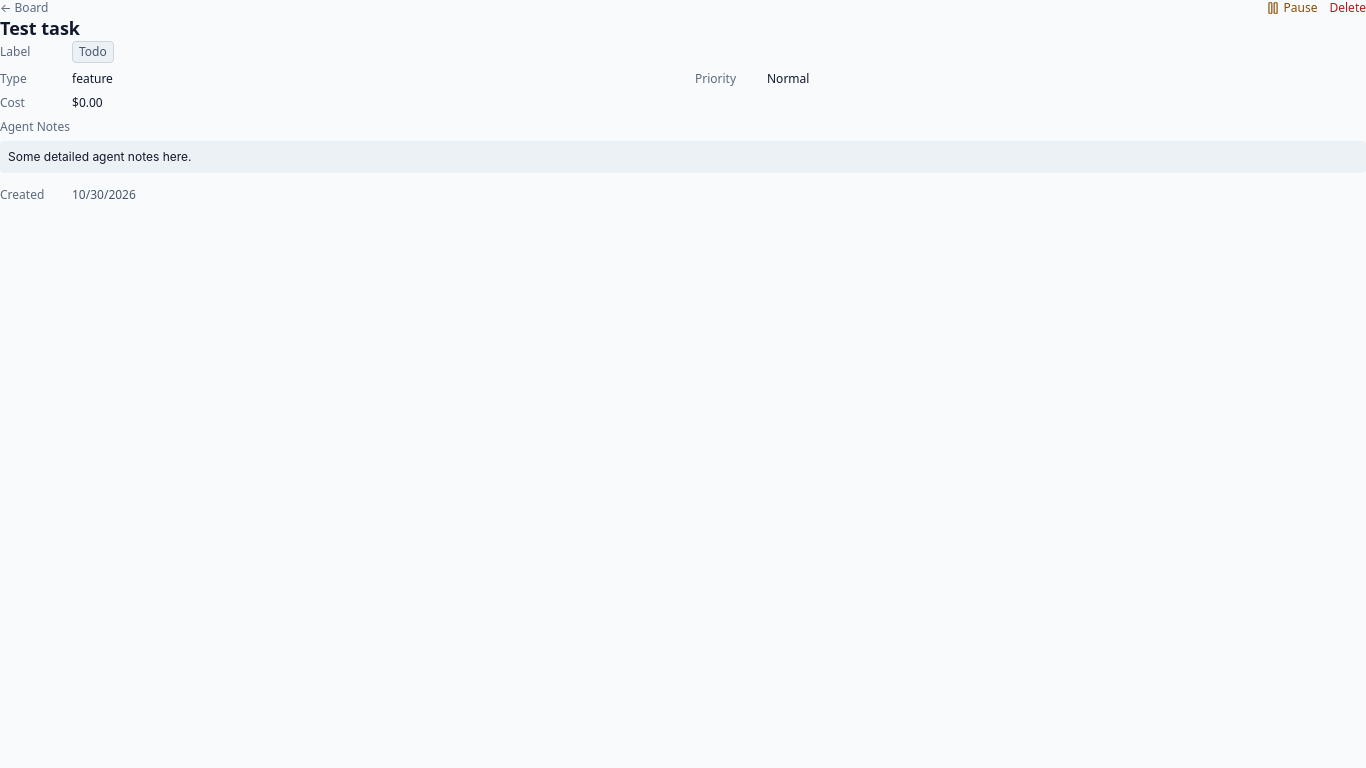
Test: TaskHeader agent notes modal › opens a modal with the full notes when the preview is clicked, and closes it
Click the button titled "Click to expand" at x=683, y=157, box top-left (0, 141), bottom-right (1365, 173)
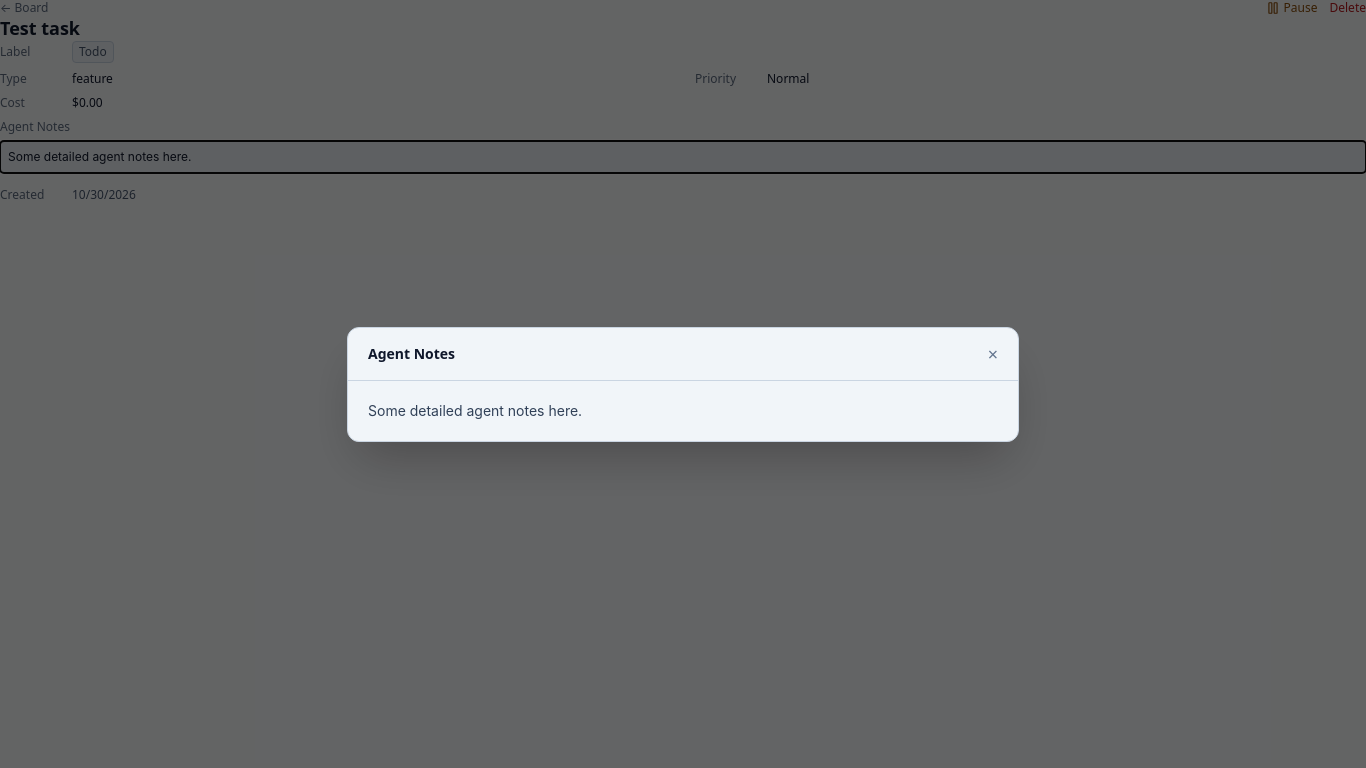
Expected: the dialog "Agent Notes" is shown
Click the button titled "Close" at x=993, y=354, box top-left (988, 344), bottom-right (998, 362)
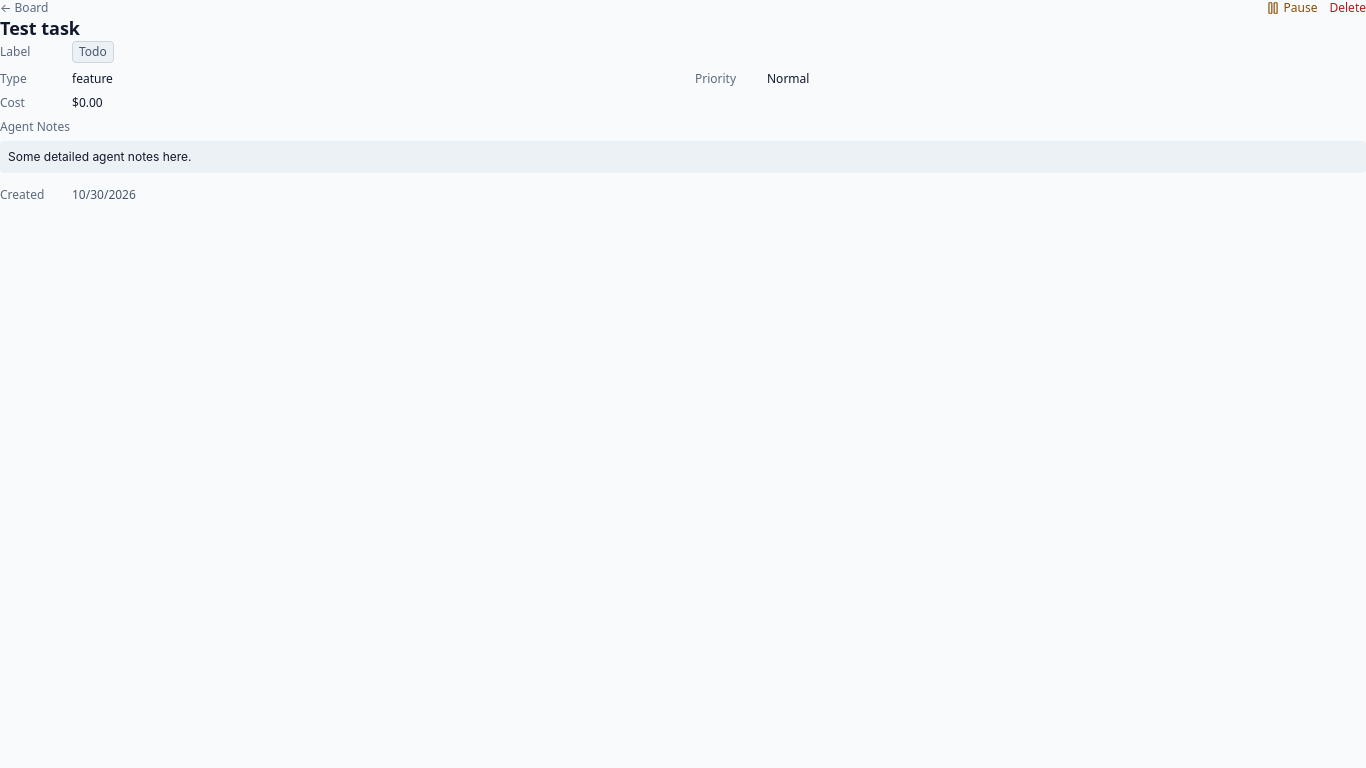
Expected: the dialog is gone
